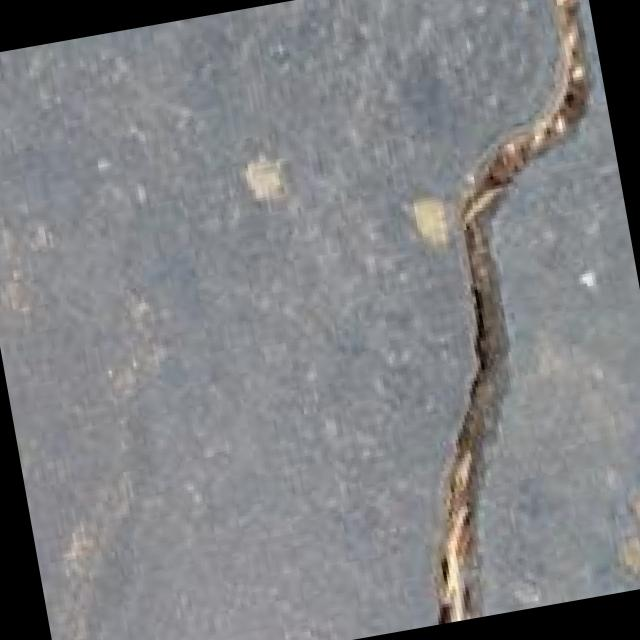crack: (300, 0, 640, 626)
